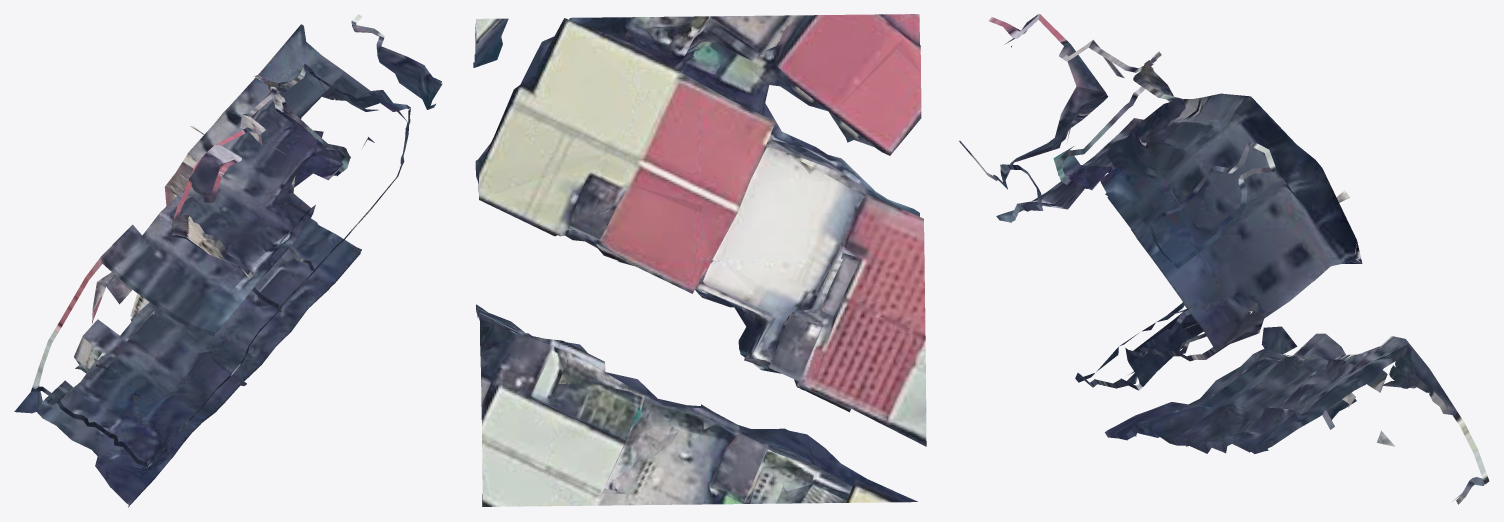
3 views of the same model, side by side, from view 1: azimuth 30°, elevation 25°; view 2: azimuth 150°, elevation 25°; view 3: azimuth 270°, elevation 25° (orthographic). The views are drawn at different scales.
Size of the model in its own units: 42.86 by 40.64 by 40.82.
1 material, 1 textured.
